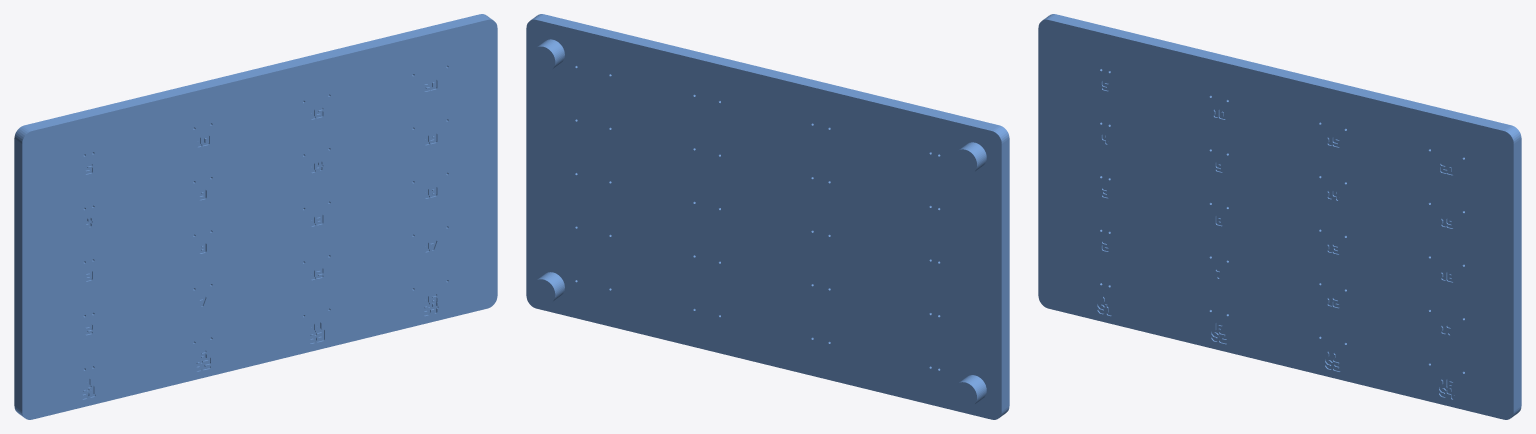
File: rack.glb
3 views of the same model, side by side, from view 1: azimuth 30°, elevation 25°; view 2: azimuth 150°, elevation 25°; view 3: azimuth 330°, elevation 25° (orthographic).
Visible parts, largest first — view 1: rack; view 2: rack; view 3: rack.
Part boxes in pixels (x1,y1,x2,y2): rack: [14, 14, 497, 419]; rack: [526, 14, 1009, 419]; rack: [1038, 14, 1521, 419].
Bounding box in the file's own units: 0.1422 × 0.0825 × 0.009.
